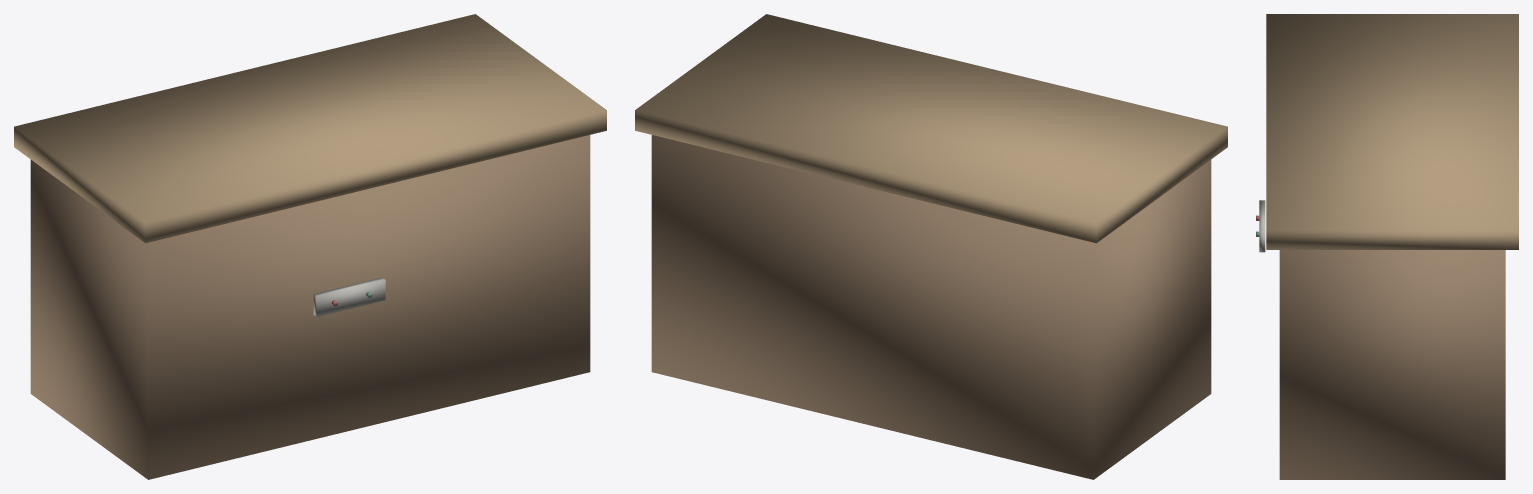
Rendered from host_stand__deep.glb.
The picture shows the model from 3 angles, left to right: view 1: azimuth 30°, elevation 25°; view 2: azimuth 150°, elevation 25°; view 3: azimuth 270°, elevation 25°; orthographic projection. The views are drawn at different scales.
Parts seen in each view (by area): view 1: world; view 2: world; view 3: world.
Part boxes in pixels (box(x1,y1,x2,y2)): world: box(14, 14, 606, 479); world: box(635, 14, 1227, 479); world: box(1256, 14, 1518, 479).
Bounding box in the file's own units: 1.88 × 1.03 × 0.965.
